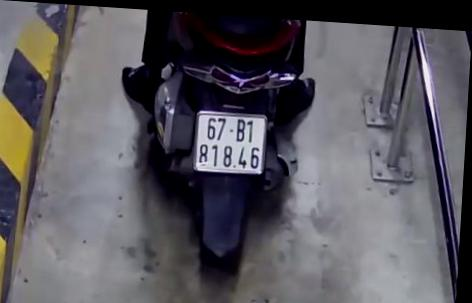License_Plate: (186, 105, 274, 183)
